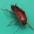cockroach: (11, 4, 27, 26)
